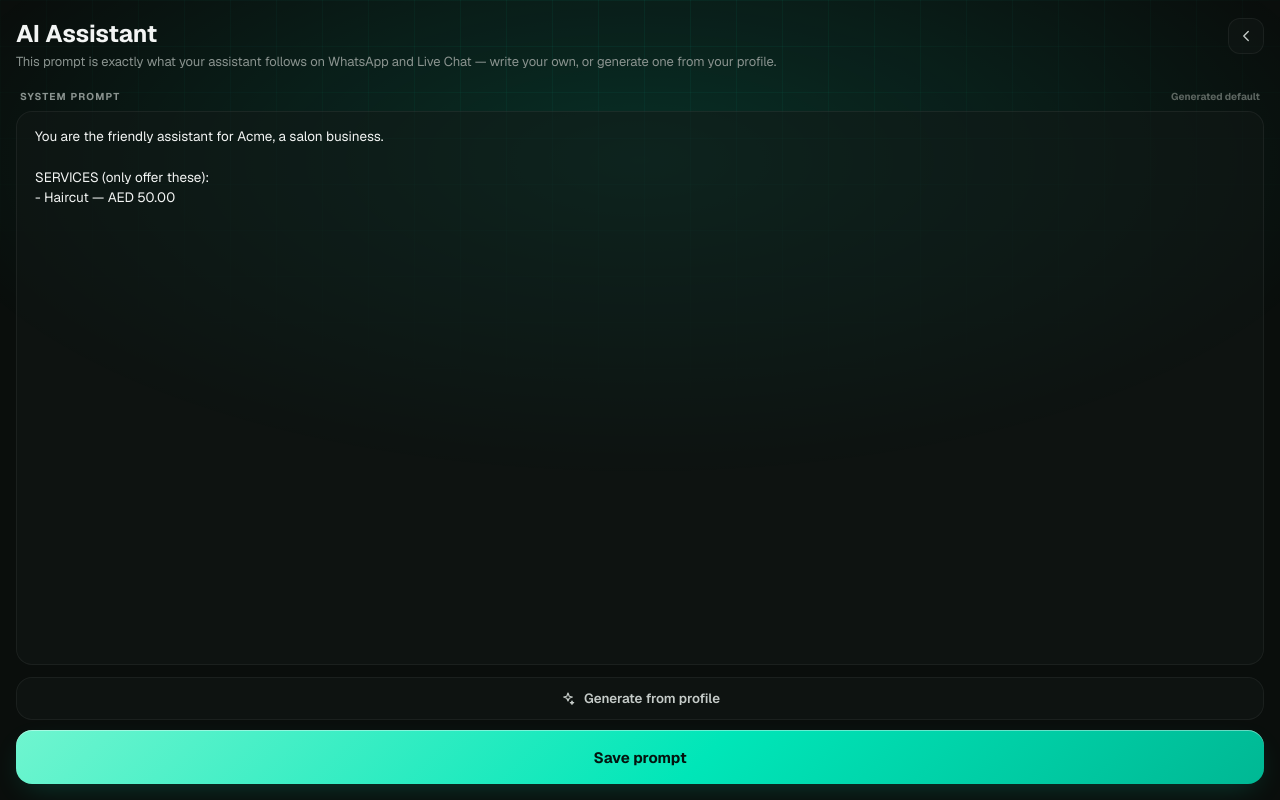
Test: Assistant › shows an error when saving fails
Click the button "Save prompt". click: [640, 757]
box: [16,730,1264,784]
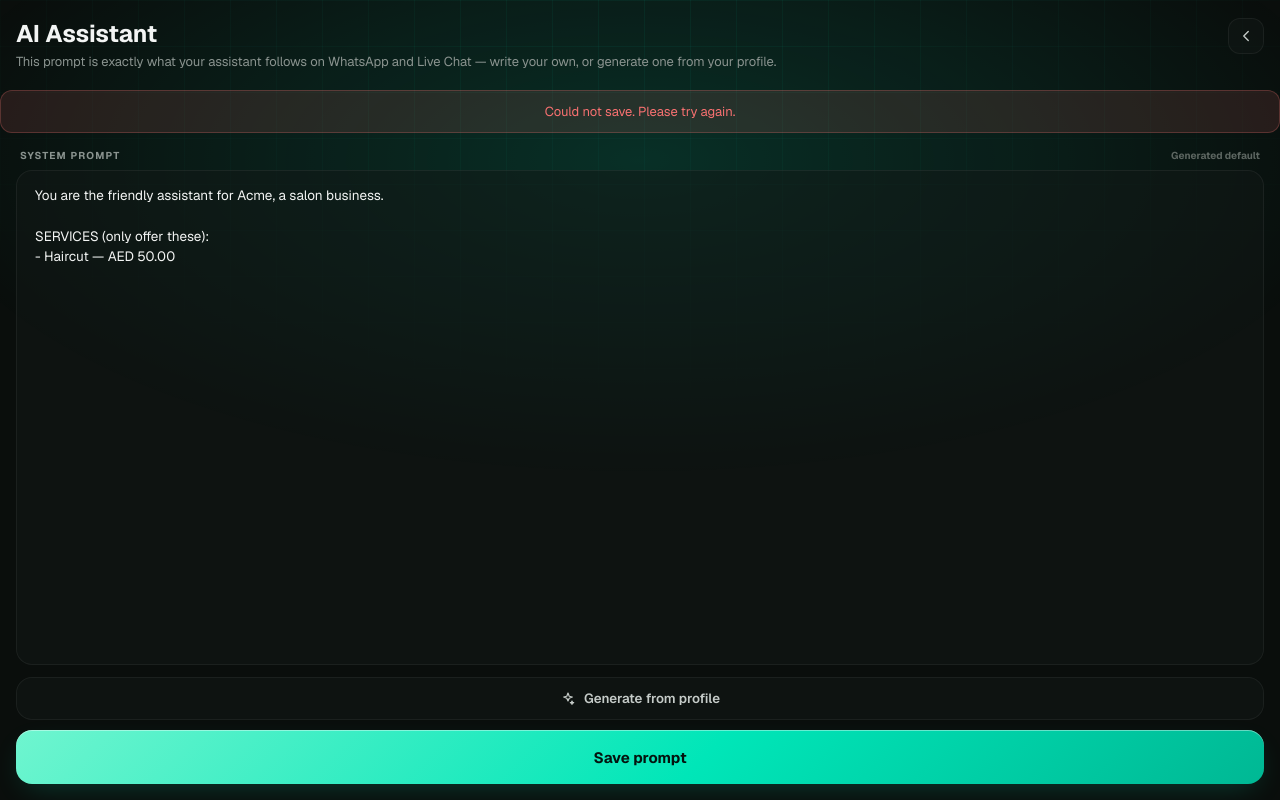
Expected: the text "Could not save. Please try again." is shown, [0,90,1279,133]
